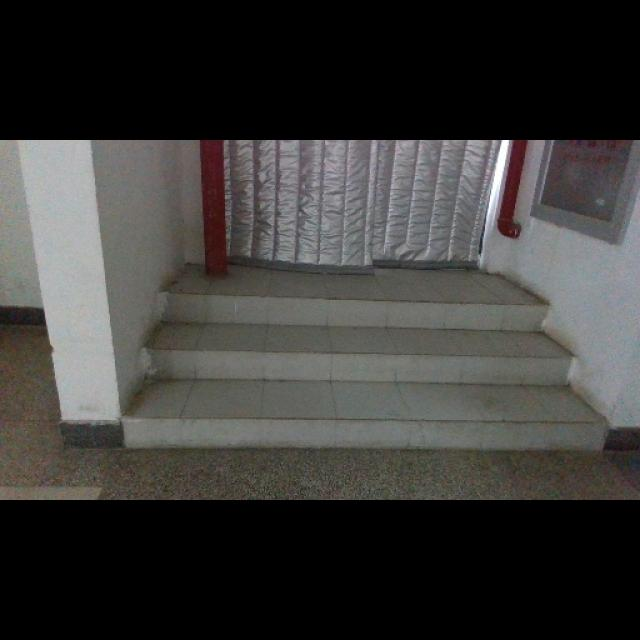Stairs: (120, 261, 609, 451)
